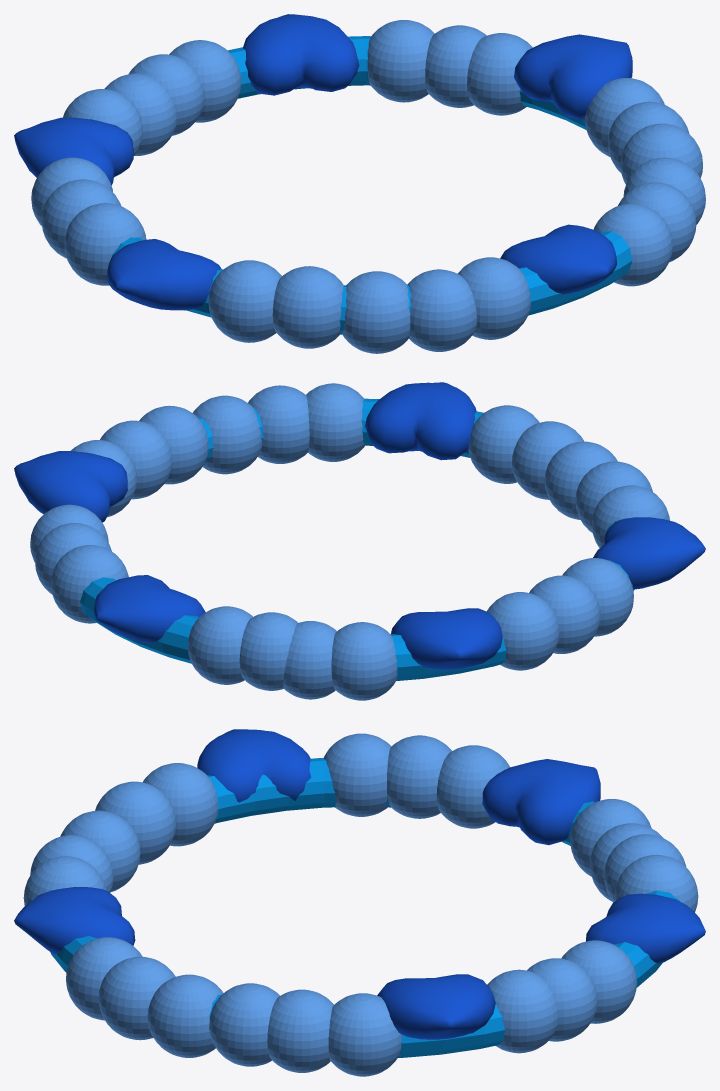
Rendered from NinteenEightyNine.fbx.
3 renders of one model, top to bottom at view 1: azimuth 30°, elevation 25°; view 2: azimuth 150°, elevation 25°; view 3: azimuth 270°, elevation 25°, orthographic. The views are drawn at different scales.
Parts seen in each view (by area): view 1: Torus.028; view 2: Torus.028; view 3: Torus.028.
Part boxes in pixels (x1,y1,x2,y2): Torus.028: (14,14,705,353); Torus.028: (14,382,705,700); Torus.028: (14,729,705,1076).
Bounding box in the file's own units: 242 × 34.3 × 232.
